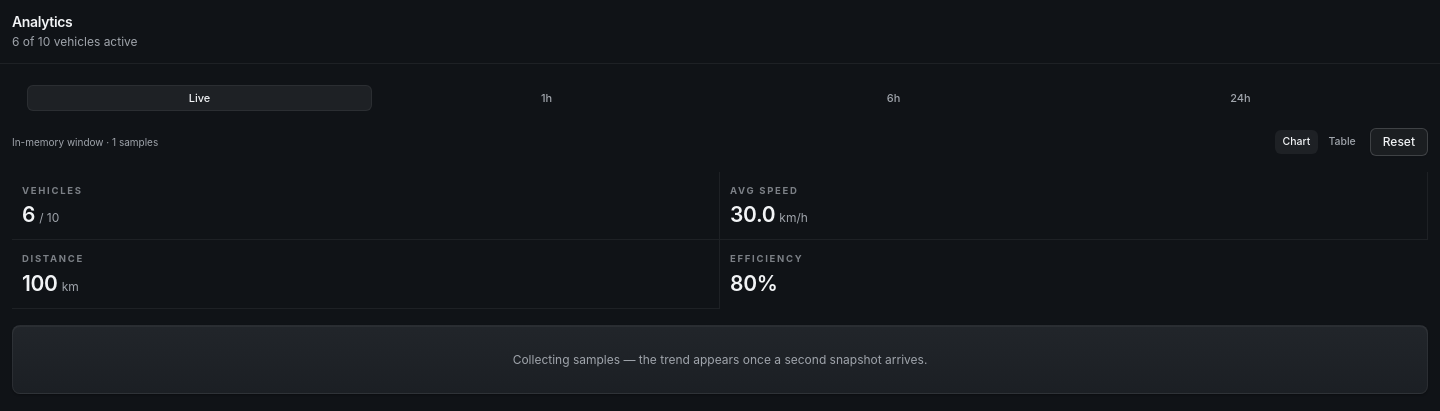
Test case: AnalyticsPanel — persisted history › says persistence is off rather than silently showing the live window
Step 1. Click the tab "24h" → (1240, 98), box [1068, 84, 1413, 111]
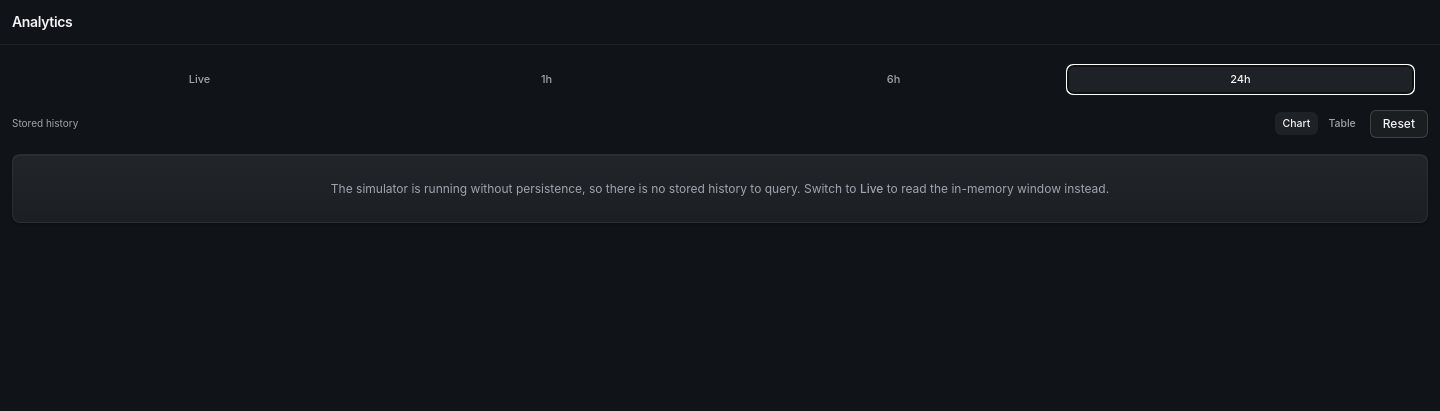
Expected: the text "running without persistence" is shown, [331, 180, 800, 196]
